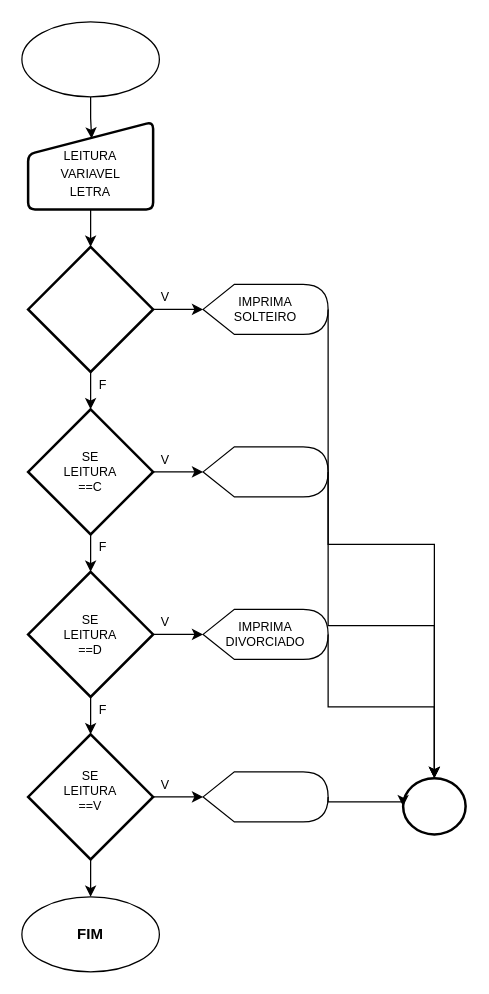
The diagram is 489 pixels wide and 994 high, and some of its shapes have lost their labels. Here are the shapes that lost their labels. From the top down, the centre of each, then its label:
(90,59): INÍCIO
(90,308): SE LEITURA ==S
(265,471): IMPRIMA CASADO
(265,796): IMPRIMA VIUVO
